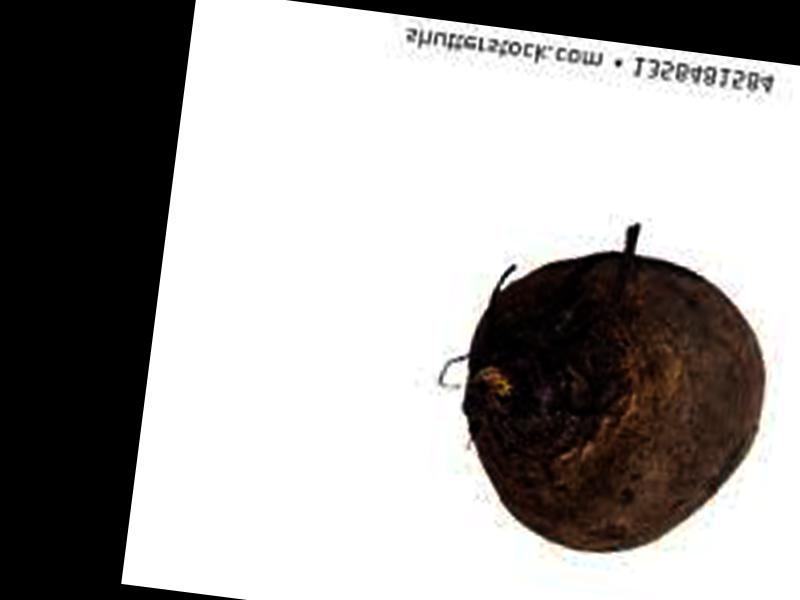Beet: (450, 238, 781, 570)
